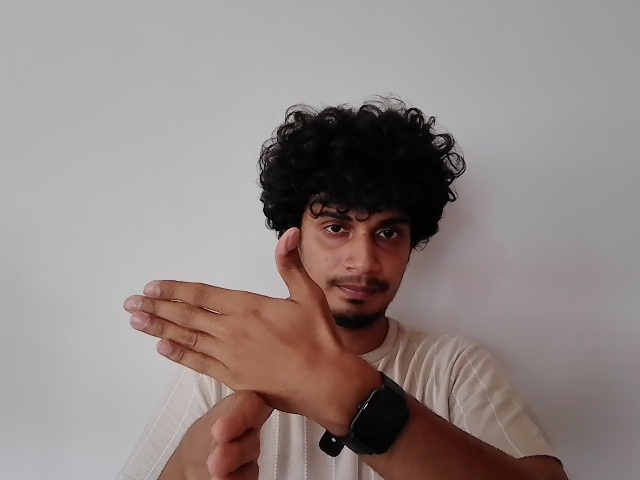busy: (124, 227, 340, 480)
